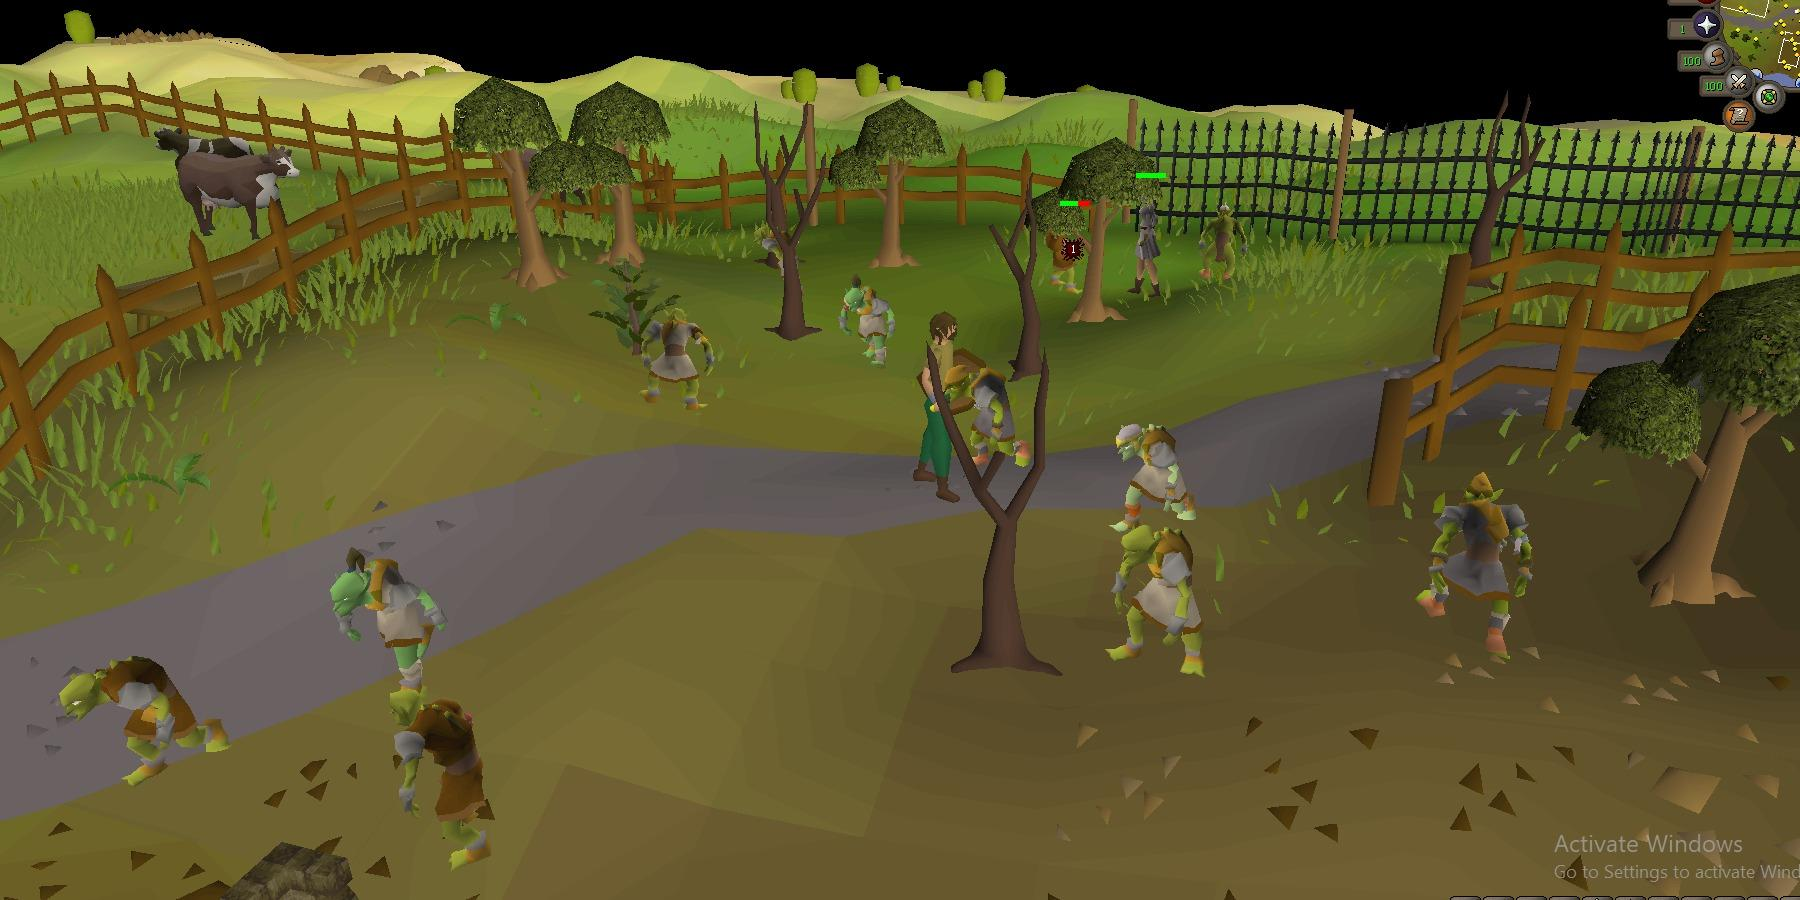goblin: (1414, 472, 1534, 662), (59, 655, 230, 788), (388, 686, 504, 867), (323, 549, 449, 697), (1104, 525, 1210, 676), (942, 364, 1035, 470), (1111, 424, 1202, 532), (639, 308, 717, 410), (839, 276, 894, 366), (1039, 208, 1091, 296), (1196, 204, 1250, 281), (753, 227, 805, 298)
